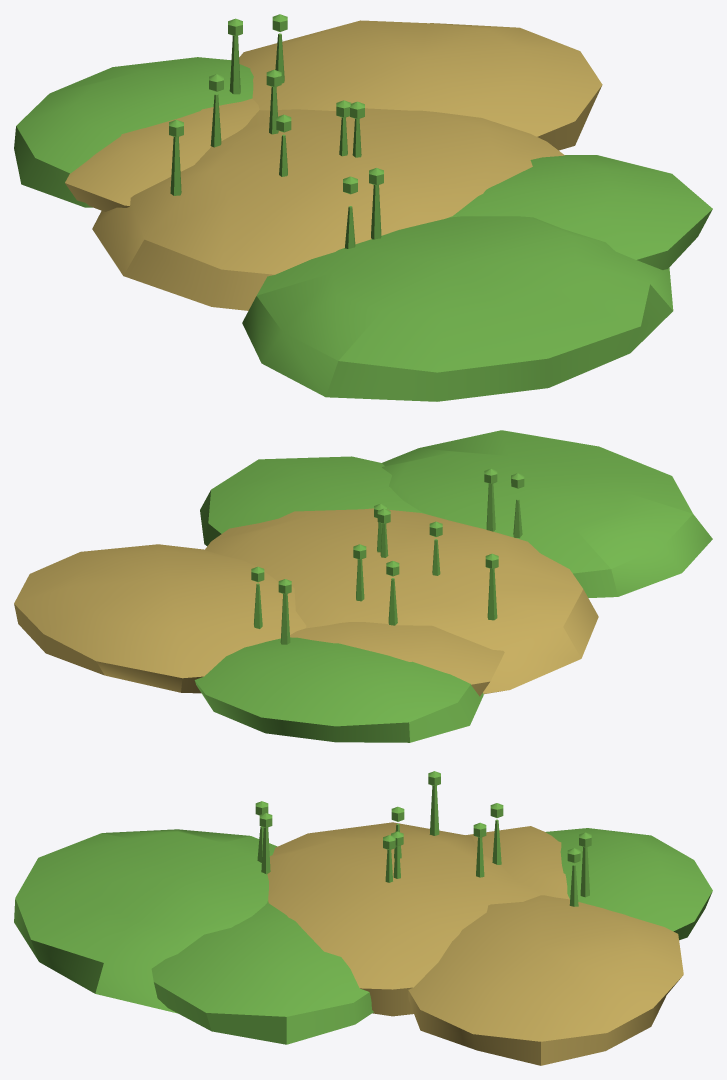
The model's file is moos_3.obj.
The picture shows the model from 3 angles, top to bottom: view 1: azimuth 30°, elevation 25°; view 2: azimuth 150°, elevation 25°; view 3: azimuth 270°, elevation 25°; orthographic projection. The views are drawn at different scales.
Visible parts, largest first — view 1: moos_3_Koerper; view 2: moos_3_Koerper; view 3: moos_3_Koerper.
Boxes of the visible parts, box(x1,y1,x2,y2) form: moos_3_Koerper: box(14, 14, 712, 401); moos_3_Koerper: box(14, 430, 712, 742); moos_3_Koerper: box(14, 771, 712, 1065).
Bounding box in the file's own units: 1.6 × 0.4455 × 2.07.
